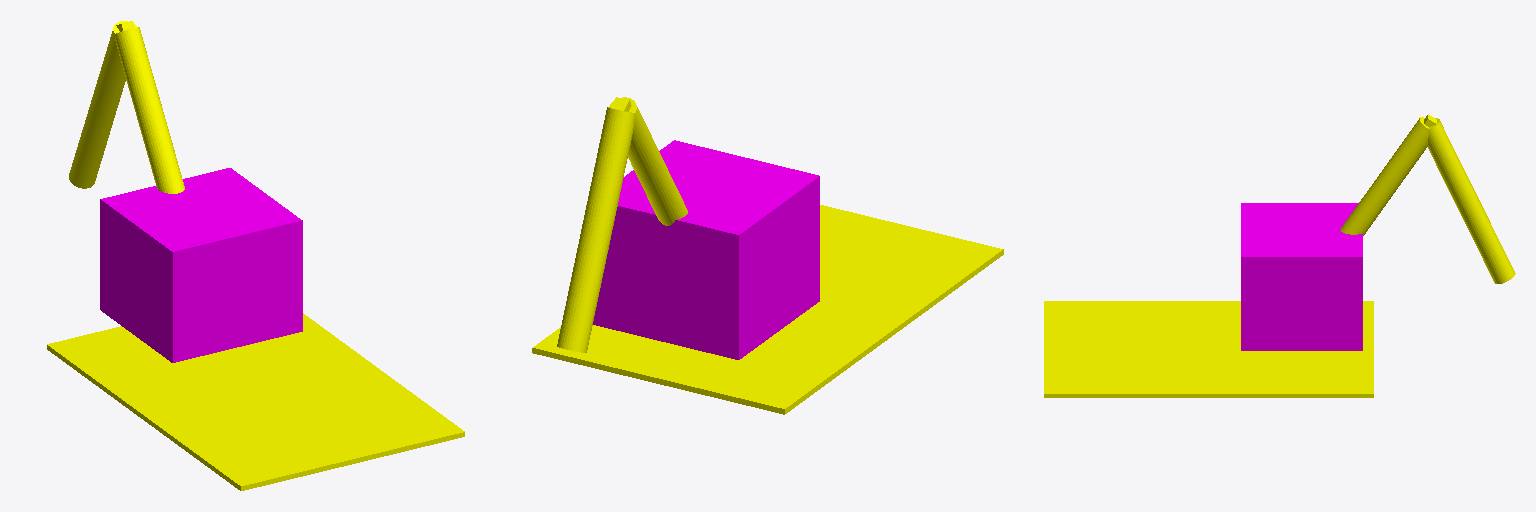
The robot description file, URDF, robot "mearm":
<?xml version="1.0"?>
<robot name="mearm">
    
  <link name="base_link">
    <visual>
      <geometry>
	    <box size="0.95 1.425 0.02"/>
      </geometry>
      <material name="yellow">
        <color rgba="1 1 0 0.2"/>
      </material>
      <origin rpy="0 0 0" xyz="0 -0.4 0.0"/>
    </visual>
    <collision>
      <geometry>
	     <box size="0.95 1.425 0.02"/>
      </geometry>
      <origin xyz="0 -0.4 0.0" rpy="0 0 0" />
    </collision>
  </link>

  <link name="torso">
    <visual>
      <geometry>
	    <box size="0.53 0.55 0.45"/>
      </geometry>
      <material name="cyan">
        <color rgba="1 0 1 0.2"/>
      </material>
      <origin rpy="0 0 0" xyz="0 0 0.225"/>
    </visual>
	<collision>
      <geometry>
	    <box size="0.53 0.55 0.45"/>
      </geometry>
      <origin rpy="0 0 0" xyz="0 0 0.225"/>
    </collision>
  </link>

  <link name="lower_arm">
    <visual>
      <geometry>
        <cylinder length="0.8" radius="0.05"/>
      </geometry>
      <material name="yellow"/>
      <origin rpy="0 0 0" xyz="0 0 0.4"/>
    </visual>
	<collision>
      <geometry>
        <cylinder length="0.8" radius="0.05"/>
      </geometry>
      <origin rpy="0 0 0" xyz="0 0 0.4"/>
    </collision>
  </link>

  <link name="upper_arm">
    <visual>
      <geometry>
        <cylinder length="0.8" radius="0.05"/>
      </geometry>
      <material name="yellow"/>
      <origin rpy="0 0 0" xyz="0 0 0.4"/>
    </visual>
	<collision>
      <geometry>
        <cylinder length="0.8" radius="0.05"/>
      </geometry>
      <origin rpy="0 0 0" xyz="0 0 0.4"/>
    </collision>
  </link>

  <link name="hand">
    <visual>
      <geometry>
        <box size="0.05 0.05 0.05"/>
      </geometry>
      <material name="yellow"/>
    </visual>
    <collision>
      <geometry>
        <box size="0.05 0.05 0.05"/>
      </geometry>
      <origin rpy="0 0 0" xyz="0 0 0"/>
    </collision>
  </link>

<!--
  <joint name="fixed" type="fixed">
    <parent link="world"/>
    <child link="base_link"/>
  </joint>
-->

  <joint name="hip" type="revolute">
    <axis xyz="0 0 1"/>
    <parent link="base_link"/>
    <child link="torso"/>
    <origin xyz="0.0 0.0 0.12" rpy="0 0 1.57"/>
    <limit effort="30" velocity="1.0" lower="0.0" upper="3.14" />
  </joint>

  <joint name="shoulder" type="revolute">
    <origin rpy="0 -1.57 0" xyz="0.115 0 0.28"/>
    <parent link="torso"/>
    <child link="lower_arm"/>
    <axis xyz="0 1 0"/>
    <limit effort="30" velocity="1.0" lower="1.15" upper="3.14" />
  </joint>

  <joint name="elbow" type="revolute">
    <origin rpy="0 0 0" xyz="0.0 0.0 0.8"/>
    <parent link="lower_arm"/>
    <child link="upper_arm"/>
    <axis xyz="0 1 0"/>
    <limit effort="30" velocity="1.0" lower="1.54" upper="2.75" />
  </joint>    

  <joint name="wrist" type="revolute">
    <axis xyz="1 0 0"/>
    <parent link="lower_arm"/>
    <child link="hand"/>
    <origin rpy="0 0 0" xyz="0.0 0.0 0.805"/>
    <limit effort="30" velocity="1.0" lower="0.0" upper="2.7" />
  </joint>


</robot>

--- Render facts (derived) ---
The picture shows the robot from 3 angles, left to right: view 1: azimuth 30°, elevation 25°; view 2: azimuth 150°, elevation 25°; view 3: azimuth 270°, elevation 25°; orthographic projection.
Model mearm with 5 links and 4 joints (4 revolute), rooted at base_link, posed joints at zero except 2 at the middle of their limits (shoulder = 2.15, elbow = 2.15).
Visible links, largest first — view 1: base_link, torso, lower_arm, upper_arm; view 2: torso, base_link, upper_arm, lower_arm; view 3: base_link, torso, upper_arm, lower_arm.
Boxes of the visible links, bbox=[...] form: base_link: bbox=[47, 313, 464, 490]; torso: bbox=[100, 168, 302, 362]; lower_arm: bbox=[115, 27, 184, 193]; upper_arm: bbox=[69, 21, 136, 188]; torso: bbox=[593, 140, 819, 359]; base_link: bbox=[532, 205, 1003, 414]; upper_arm: bbox=[557, 107, 634, 352]; lower_arm: bbox=[609, 97, 687, 225]; base_link: bbox=[1044, 301, 1373, 397]; torso: bbox=[1241, 203, 1362, 350]; upper_arm: bbox=[1428, 118, 1515, 283]; lower_arm: bbox=[1340, 117, 1428, 235].
Bounding box of the posed robot: 0.95 × 2.04 × 1.12 m (x, y, z).
Geometry: primitives only (box / cylinder / sphere), no mesh files.
